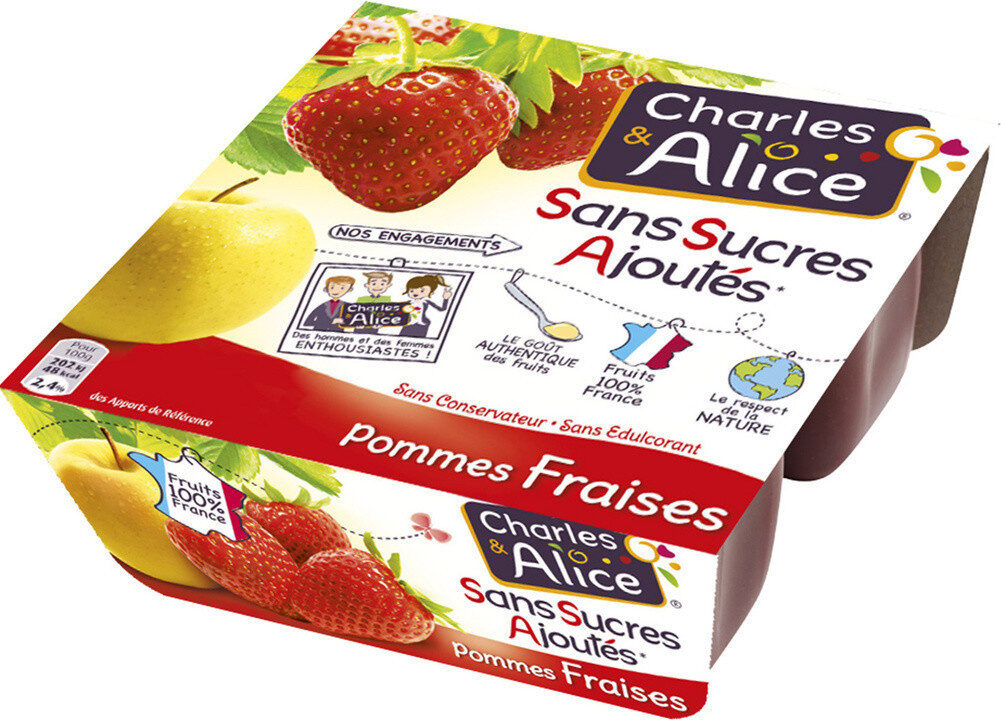Pommes Fraises: (50, 36, 951, 684)
